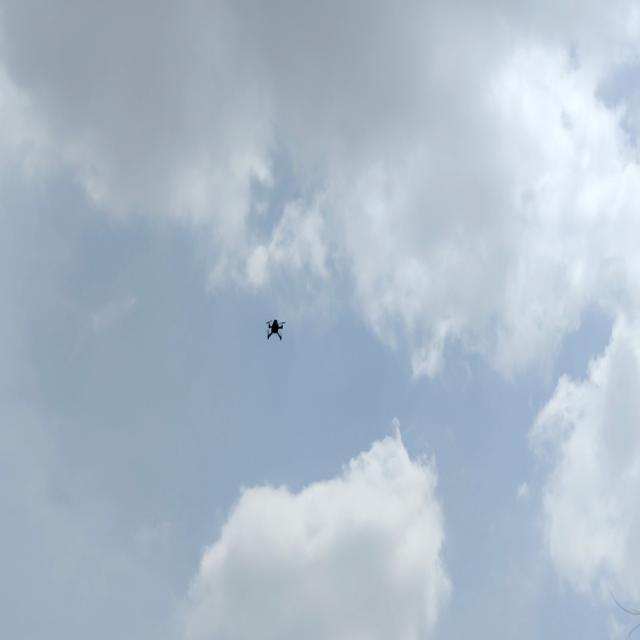drone: (265, 312, 287, 349)
